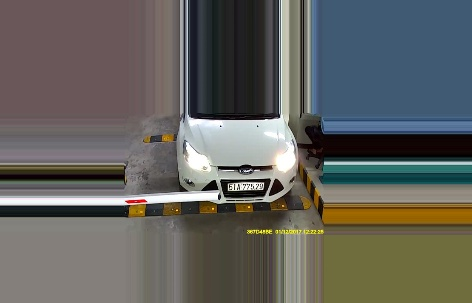plate: (223, 177, 263, 192)
